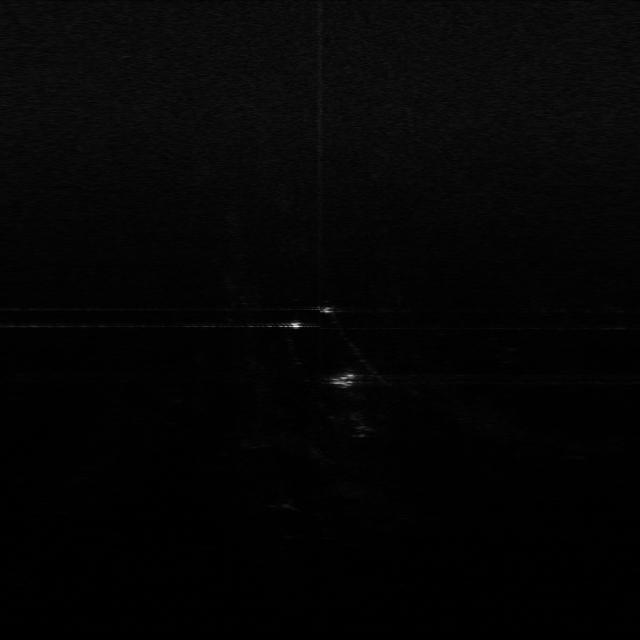rov: (327, 369, 362, 392)
